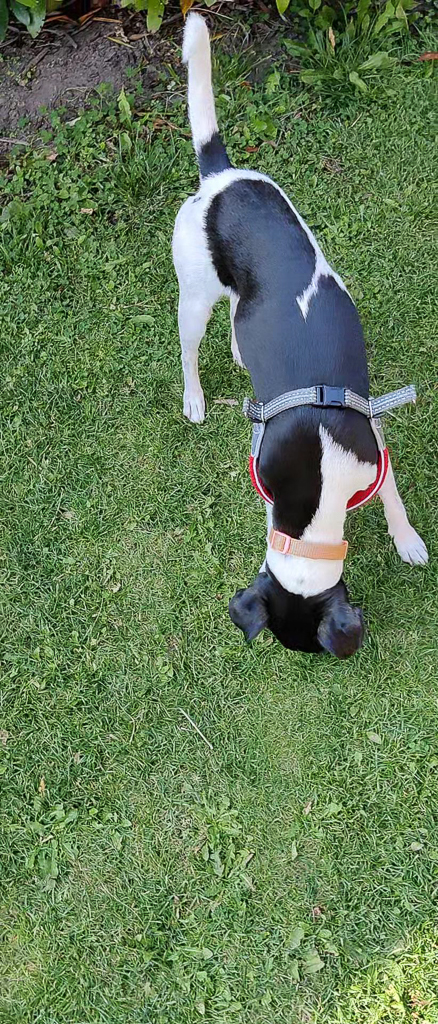Dog: (147, 7, 438, 672)
